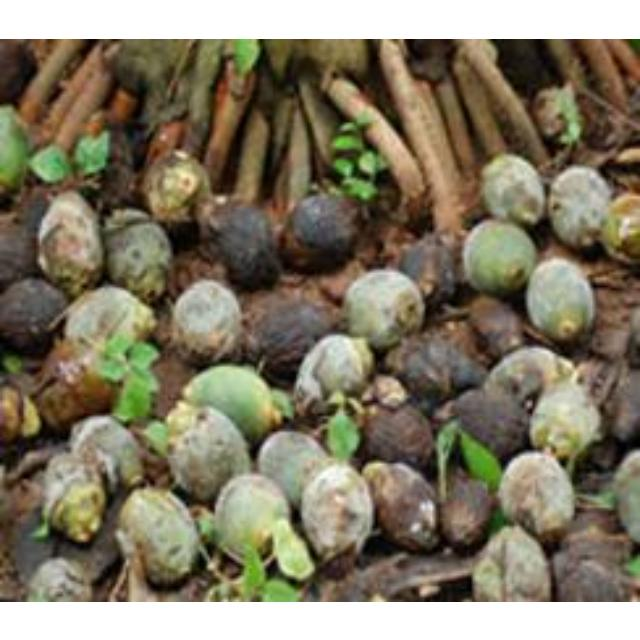damaged: (202, 464, 318, 582), (116, 485, 204, 587), (36, 338, 124, 432), (165, 406, 251, 502), (183, 362, 281, 442), (250, 294, 336, 380), (364, 460, 442, 554), (392, 330, 484, 408), (206, 200, 284, 290), (169, 278, 247, 366), (282, 191, 364, 273), (446, 384, 530, 460), (529, 378, 601, 466), (63, 284, 154, 352), (525, 258, 595, 344), (459, 219, 536, 295), (141, 149, 215, 227), (472, 526, 550, 600), (340, 268, 422, 338), (546, 164, 612, 248), (258, 428, 329, 506), (72, 414, 144, 490), (0, 276, 68, 356), (362, 402, 434, 470), (486, 346, 568, 402), (396, 234, 458, 308), (438, 472, 496, 550), (306, 334, 372, 398), (556, 530, 628, 582), (602, 191, 640, 259), (1, 106, 32, 188), (612, 452, 640, 540)
